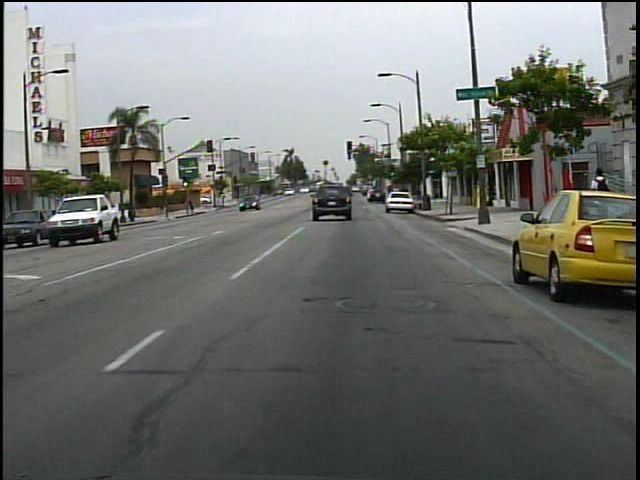person: (586, 162, 615, 210)
